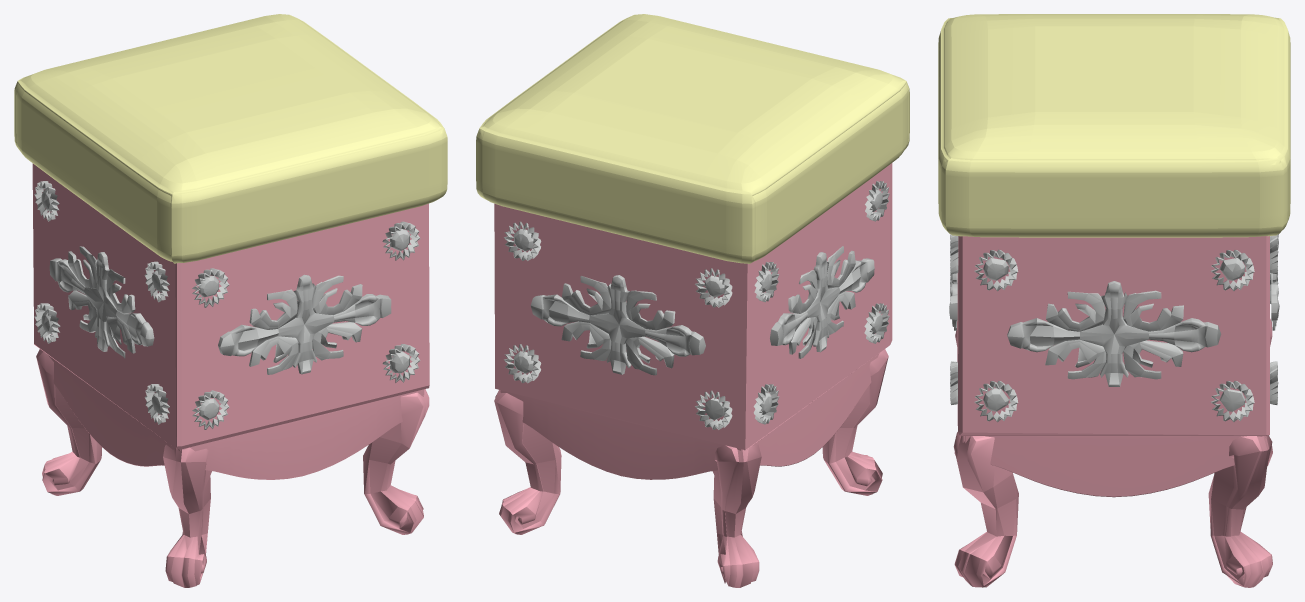
File: silla_tocador.obj
The picture shows the model from 3 angles, left to right: view 1: azimuth 30°, elevation 25°; view 2: azimuth 150°, elevation 25°; view 3: azimuth 270°, elevation 25°; orthographic projection. The views are drawn at different scales.
Parts seen in each view (by area): view 1: Sphere119; view 2: Sphere119; view 3: Sphere119.
Part boxes in pixels (x1,y1,x2,y2): Sphere119: (14, 14, 447, 587); Sphere119: (476, 14, 909, 587); Sphere119: (938, 14, 1290, 587).
Size of the model in its own units: 0.7681 by 1.1 by 0.7681.
Materials: 3 (3 with a texture image).
